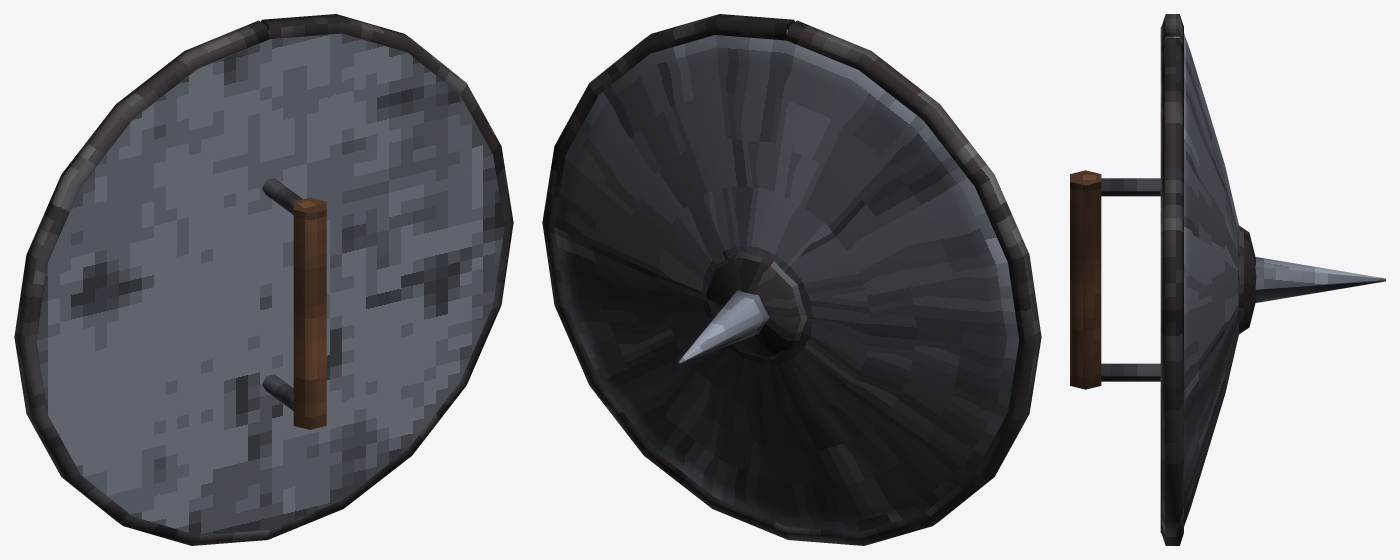
Rendered from spiked_buckler.glb.
The picture shows the model from 3 angles, left to right: view 1: azimuth 30°, elevation 25°; view 2: azimuth 150°, elevation 25°; view 3: azimuth 270°, elevation 25°; orthographic projection. The views are drawn at different scales.
Visible parts, largest first — view 1: spiked_buckler; view 2: spiked_buckler; view 3: spiked_buckler.
Part boxes in pixels (x1,y1,x2,y2): spiked_buckler: (14,14,513,545); spiked_buckler: (542,14,1041,545); spiked_buckler: (1070,14,1385,545).
Size of the model in its own units: 0.3569 by 0.3569 by 0.2104.
Materials: 1 (1 with a texture image).
